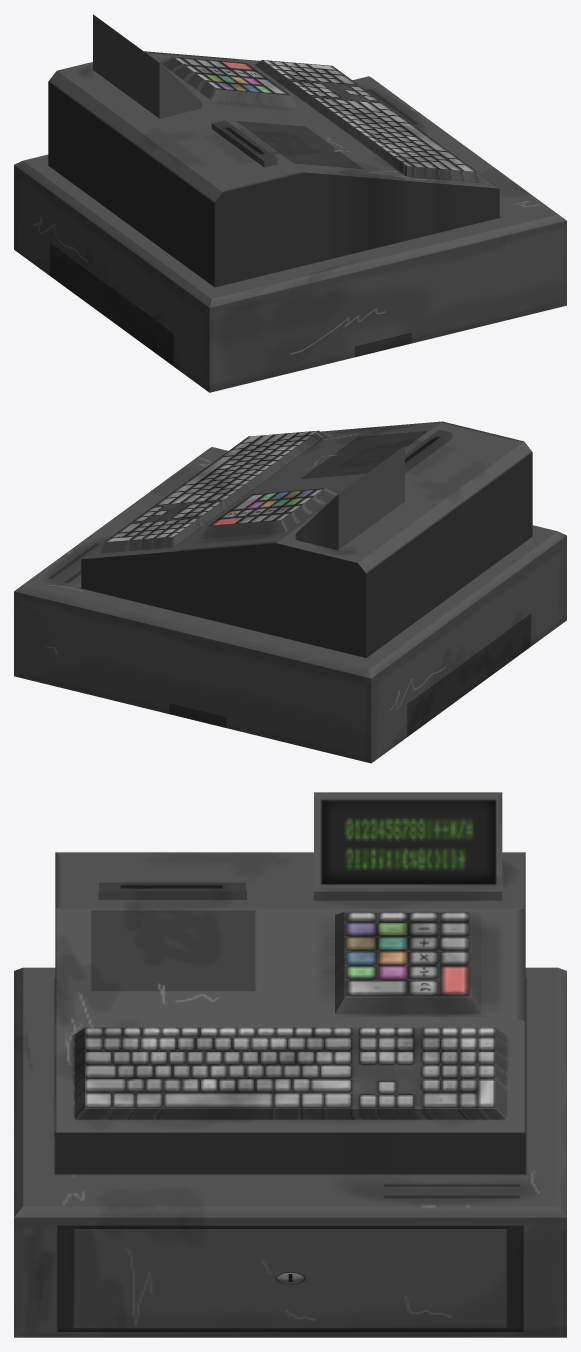
The model's file is cash_register.glb.
3 views of the same model, one above another, from view 1: azimuth 30°, elevation 25°; view 2: azimuth 150°, elevation 25°; view 3: azimuth 270°, elevation 25° (orthographic). The views are drawn at different scales.
Parts seen in each view (by area): view 1: Cube; view 2: Cube; view 3: Cube.
Boxes of the visible parts, left/top/right/bottom form: Cube: left=14, top=14, right=566, bottom=392; Cube: left=14, top=421, right=566, bottom=763; Cube: left=14, top=792, right=566, bottom=1337.
Size of the model in its own units: 0.422 by 0.2692 by 0.4.
Materials: 1 (1 with a texture image).
